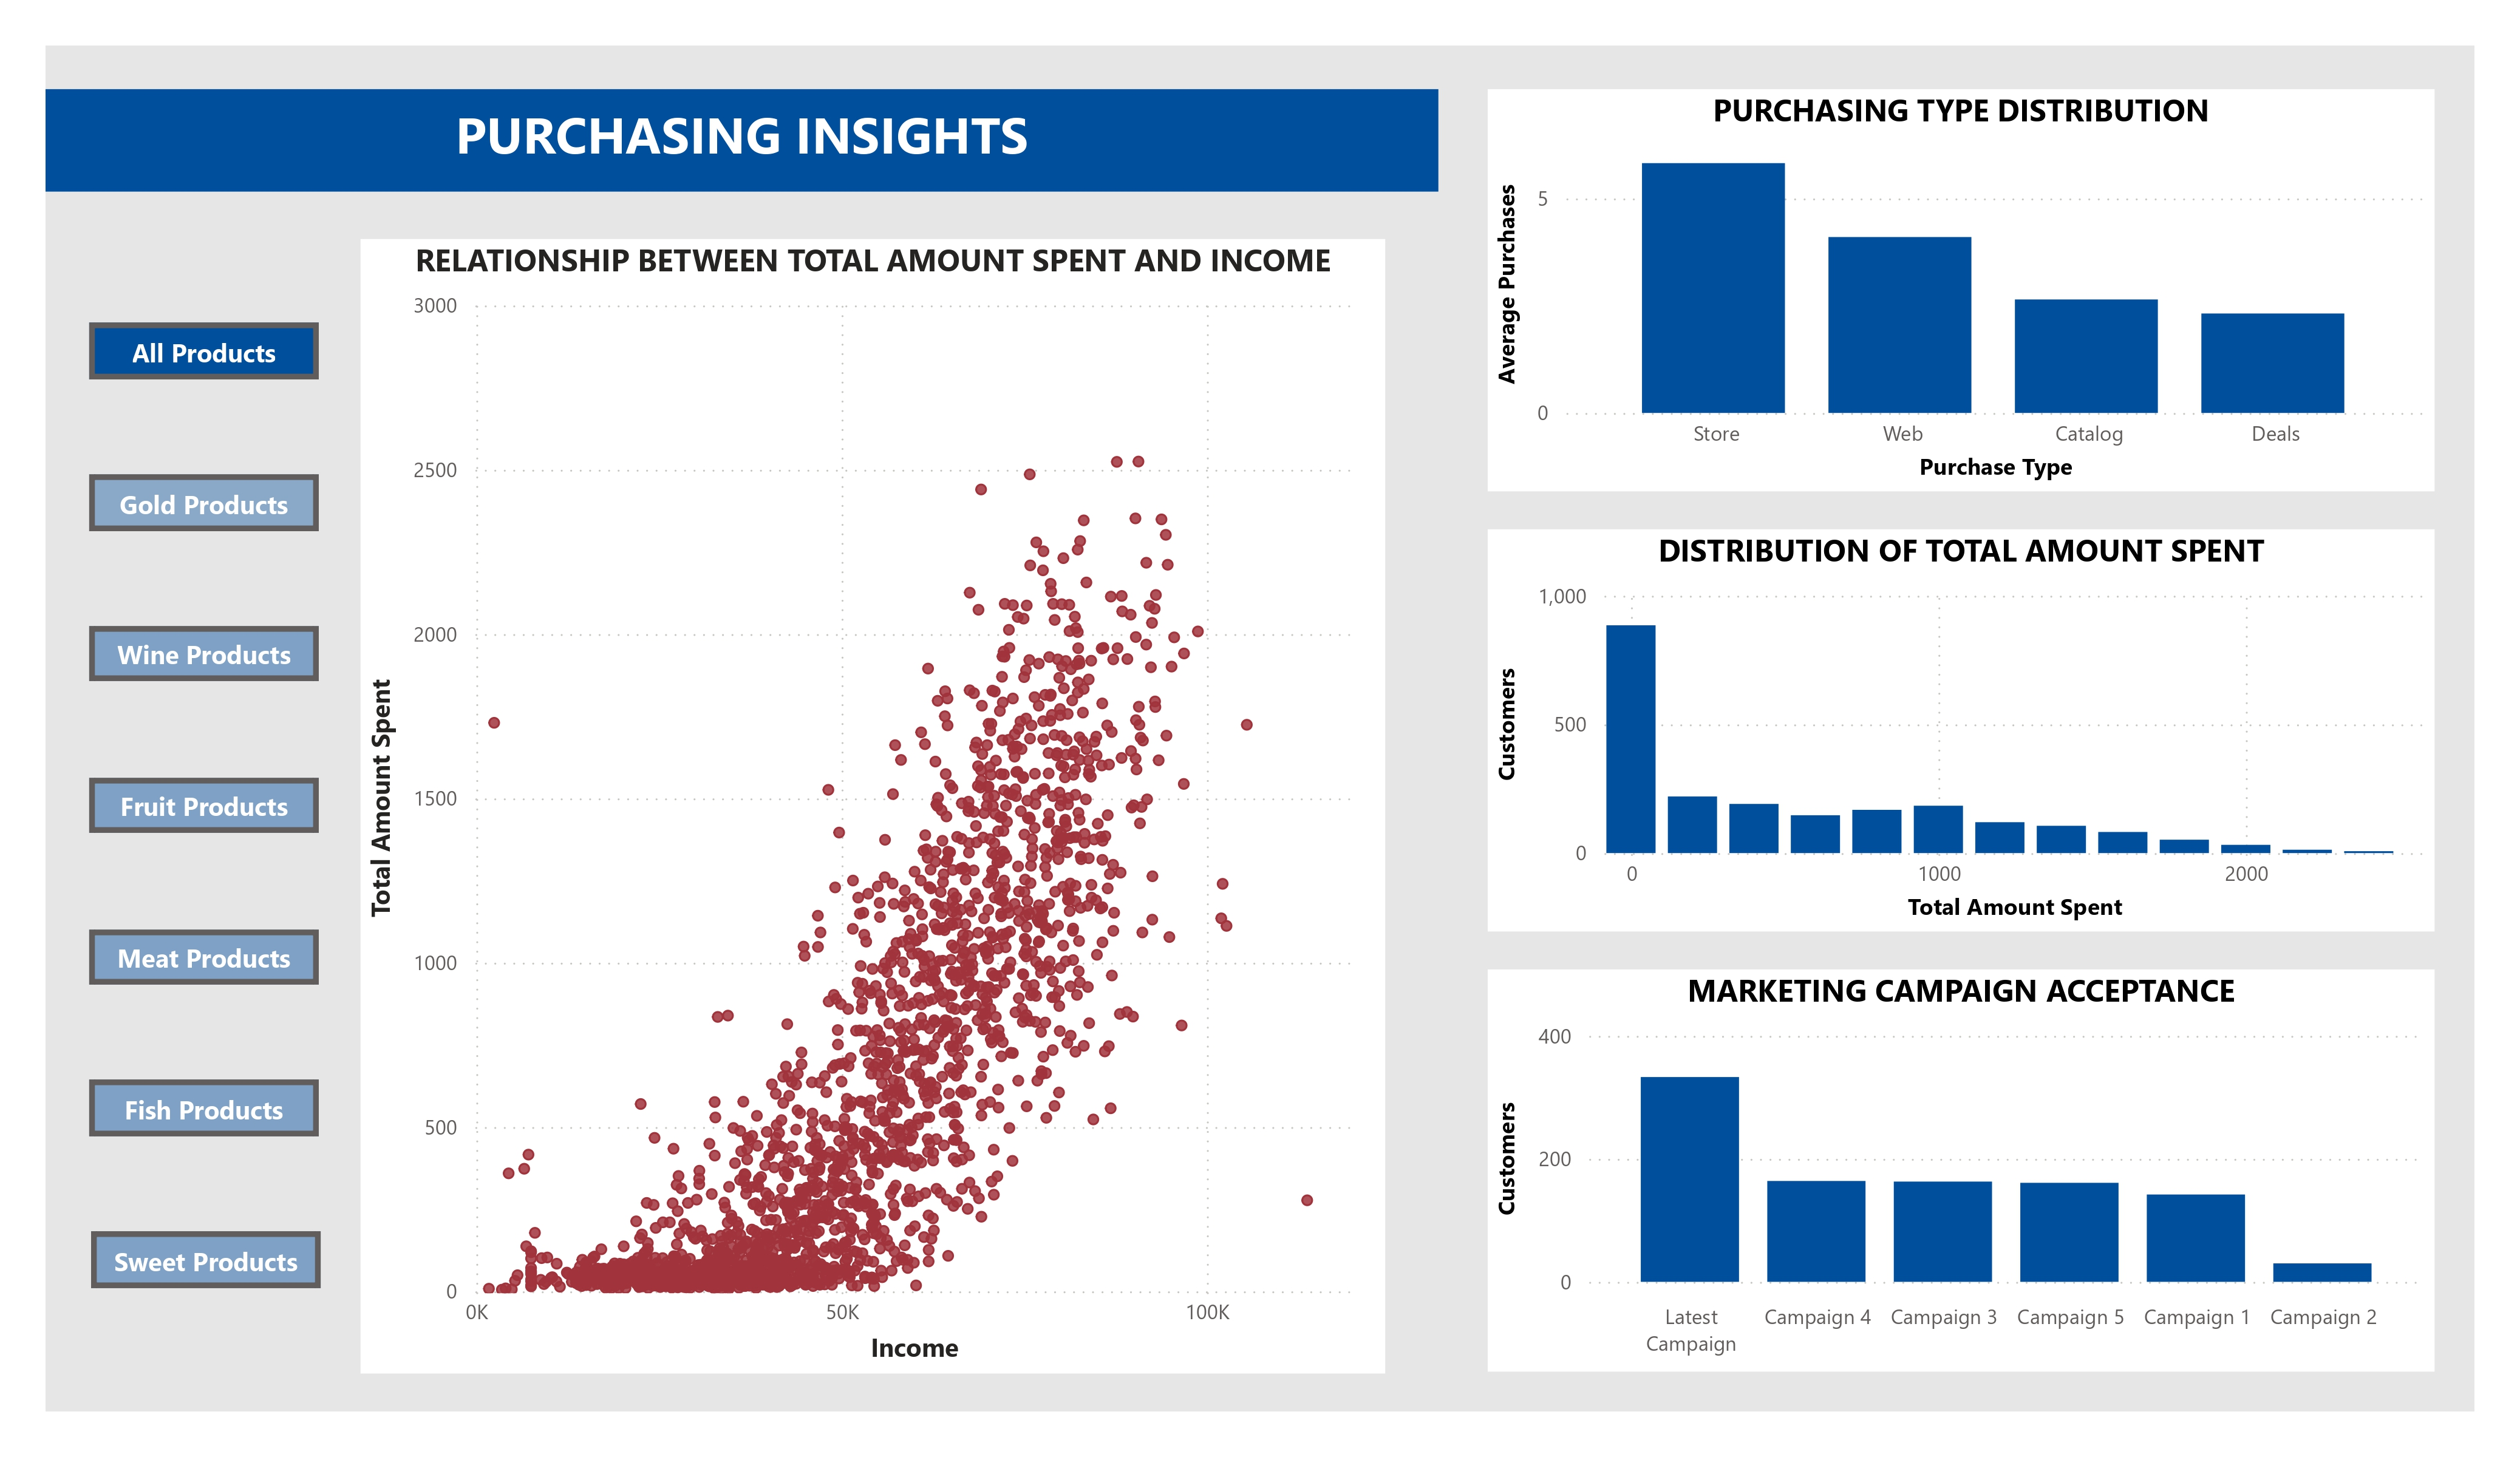

What the dashboard file says about the page in this screenshot:
{"tool":"powerbi","page":{"name":"Purchasing Insights","canvas":[1280,720],"ordinal":1},"visuals":[{"type":"lineClusteredColumnComboChart","title":"DISTRIBUTION OF TOTAL AMOUNT SPENT","fields":{"Y":["CountNonNull(marketing_stats.Index)"],"Category":["marketing_stats.Total_Spent_Amount (bins)"]},"box":[759.8,255.4,499.4,211.2],"z":0},{"type":"actionButton","box":[24,625.2,121.2,29.5],"z":0,"group":"g1"},{"type":"clusteredColumnChart","title":"MARKETING CAMPAIGN ACCEPTANCE","fields":{"Category":["marketing_stats (2).Attribute"],"Y":["Sum(marketing_stats (2).Value)"]},"box":[759.8,487.2,499.4,212.1],"z":1000},{"type":"actionButton","box":[23.8,545.4,121.2,29.5],"z":1000,"group":"g1"},{"type":"clusteredColumnChart","title":"PURCHASING TYPE DISTRIBUTION","fields":{"Category":["marketing_stats (3).Purchase Type"],"Y":["Avg(marketing_stats (3).Value)"]},"box":[759.8,22.9,499.4,212],"z":2000},{"type":"actionButton","box":[23.8,465.6,121.2,29.5],"z":2000,"group":"g1"},{"type":"textbox","box":[0,22.9,734.4,54],"z":3000},{"type":"actionButton","box":[23.8,385.8,121.2,29.5],"z":3000,"group":"g1"},{"type":"actionButton","box":[23.8,306,121.2,29.5],"z":4000,"group":"g1"},{"type":"actionButton","box":[23.8,226.2,120.4,29.5],"z":5000,"group":"g1"},{"type":"actionButton","box":[23.5,145.7,121.1,30.1],"z":6000,"group":"g1"},{"type":"scatterChart","title":"RELATIONSHIP BETWEEN TOTAL AMOUNT SPENT AND INCOME","fields":{"X":["marketing_stats.Income"],"Y":["marketing_stats.Total_Spent_Amount"]},"box":[166.5,102,540.4,597.7],"z":7000,"group":"g1"},{"type":"group","id":"g1","title":"All Products","box":[23.5,102,683.3,597.4],"z":10000}]}

Visuals, with their boxes on the page's 1280x720 design canvas (x1, y1, x2, y2). These are canvas units, not pixel positions in the 2520x1457 screenshot, which may show the page scaled, cropped or inside an application window:
"DISTRIBUTION OF TOTAL AMOUNT SPENT" lineClusteredColumnComboChart: detection(760, 255, 1259, 467)
actionButton: detection(24, 625, 145, 655)
"MARKETING CAMPAIGN ACCEPTANCE" clusteredColumnChart: detection(760, 487, 1259, 699)
actionButton: detection(24, 545, 145, 575)
"PURCHASING TYPE DISTRIBUTION" clusteredColumnChart: detection(760, 23, 1259, 235)
actionButton: detection(24, 466, 145, 495)
textbox: detection(0, 23, 734, 77)
actionButton: detection(24, 386, 145, 415)
actionButton: detection(24, 306, 145, 336)
actionButton: detection(24, 226, 144, 256)
actionButton: detection(24, 146, 145, 176)
"RELATIONSHIP BETWEEN TOTAL AMOUNT SPENT AND INCOME" scatterChart: detection(166, 102, 707, 700)
"All Products" group: detection(24, 102, 707, 699)
